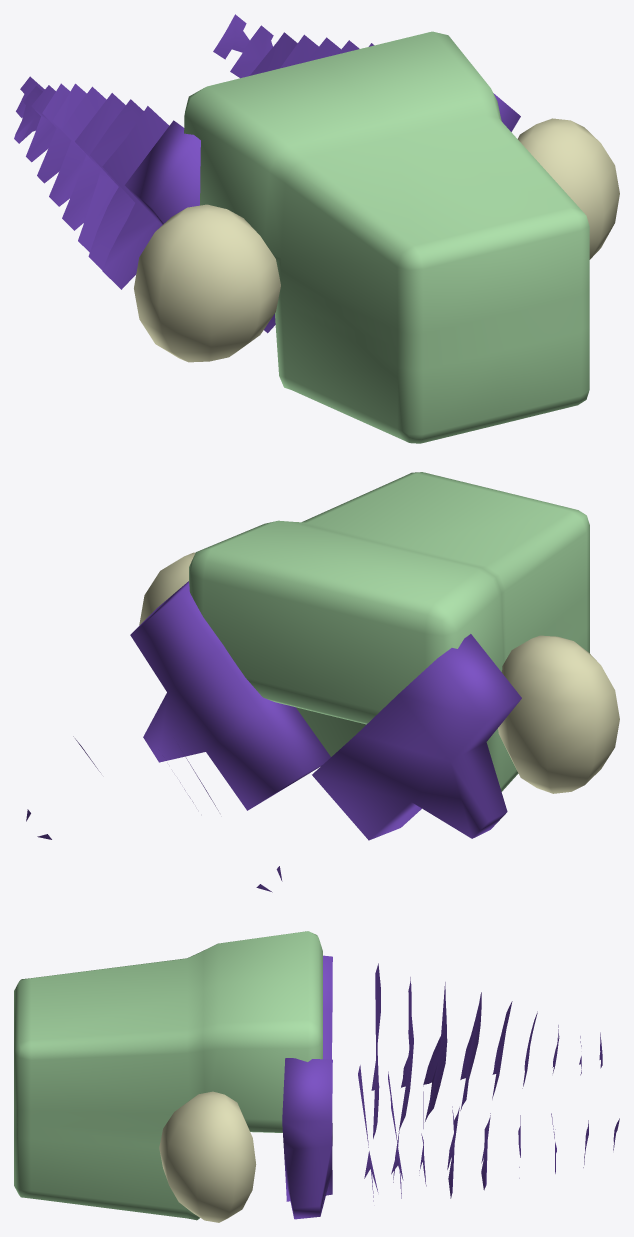
The model's file is ship_26.gltf.
3 views of the same model, one above another, from view 1: azimuth 30°, elevation 25°; view 2: azimuth 150°, elevation 25°; view 3: azimuth 270°, elevation 25° (orthographic). The views are drawn at different scales.
Visible parts, largest first — view 1: gtlf; view 2: gtlf; view 3: gtlf.
Boxes of the visible parts, x1,y1,x2,y2 form: gtlf: (14, 14, 619, 443); gtlf: (26, 472, 619, 892); gtlf: (14, 931, 619, 1222).
Size of the model in its own units: 1.68 by 0.8928 by 2.37.
